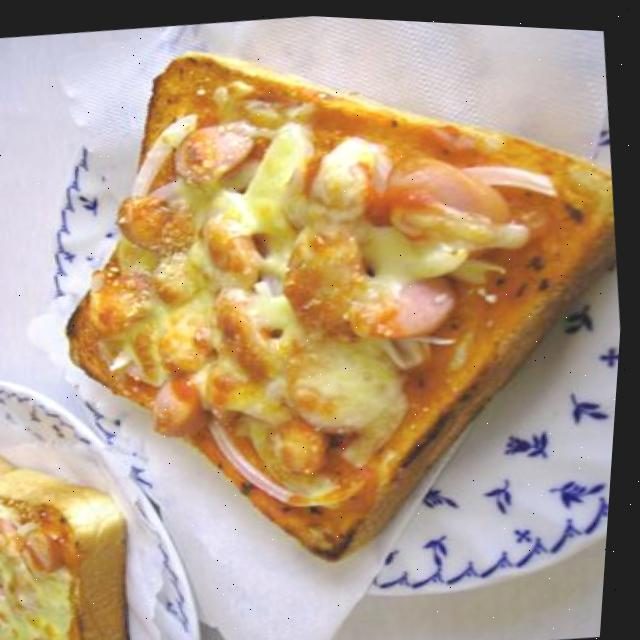面包点心: (5, 1, 640, 608)
